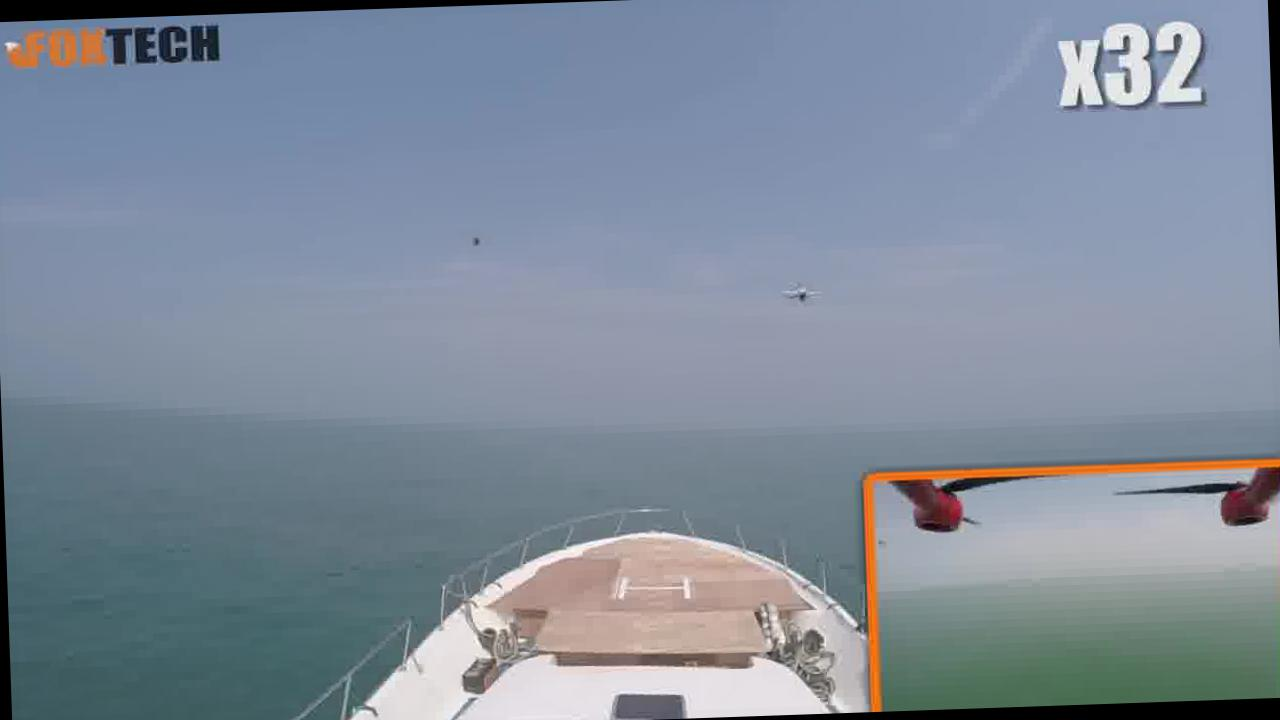drone: (767, 264, 839, 328), (459, 222, 494, 261)
